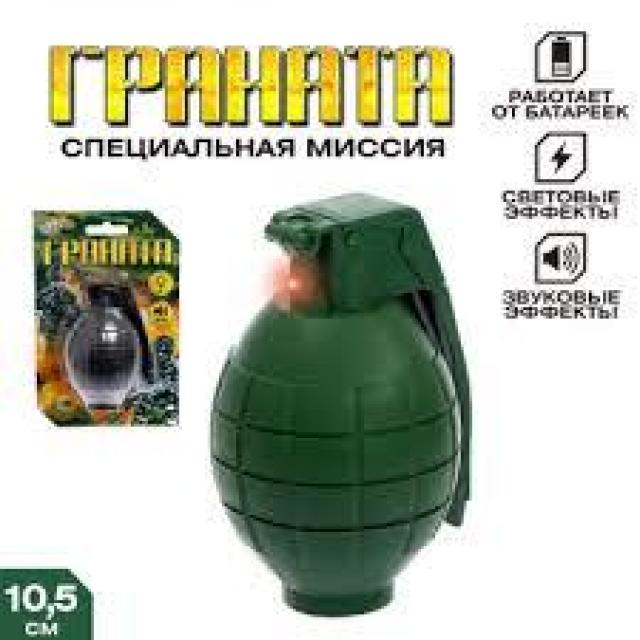grenade: (207, 191, 475, 623), (62, 280, 157, 413)
